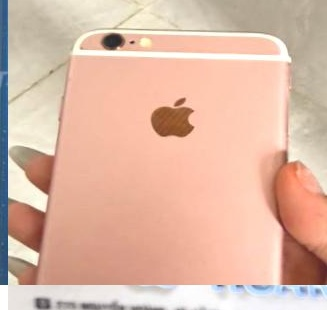scratch: (272, 140, 282, 166), (78, 45, 84, 51), (67, 76, 72, 83)
